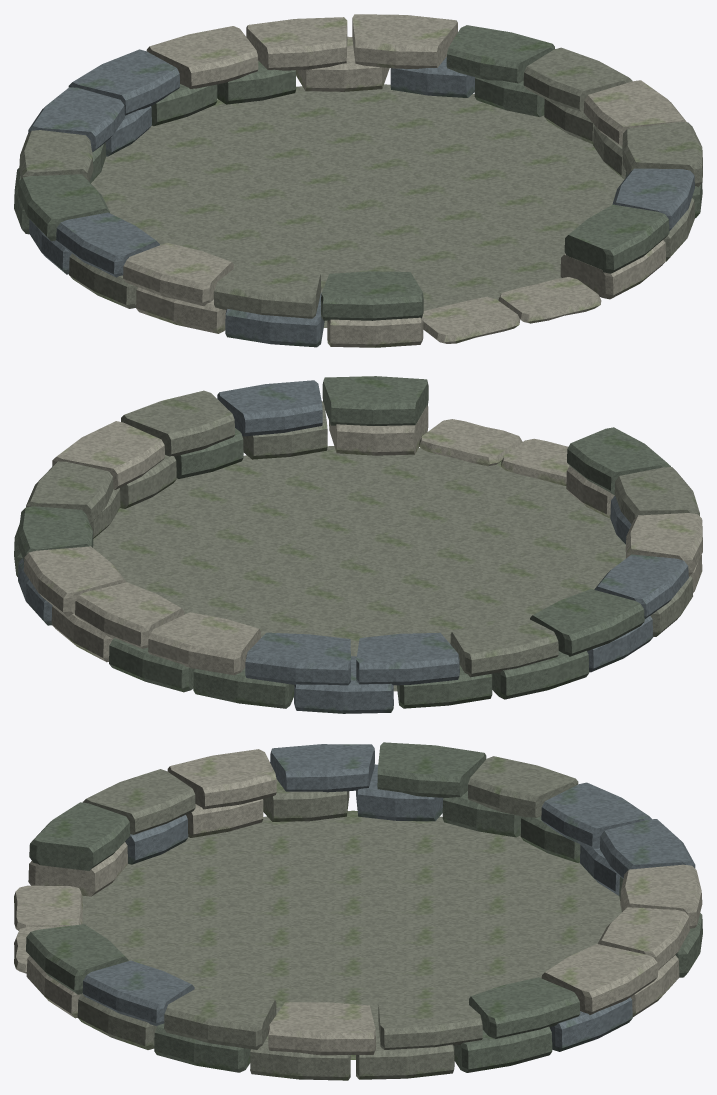
Rendered from onsen-pool.glb.
3 views of the same model, one above another, from view 1: azimuth 30°, elevation 25°; view 2: azimuth 150°, elevation 25°; view 3: azimuth 270°, elevation 25° (orthographic).
Visible parts, largest first — view 1: Hewn granite coping, bonded outer rim and paved basin; view 2: Hewn granite coping, bonded outer rim and paved basin; view 3: Hewn granite coping, bonded outer rim and paved basin.
Part boxes in pixels (bbox=[...]): Hewn granite coping, bonded outer rim and paved basin: bbox=[14, 14, 702, 347]; Hewn granite coping, bonded outer rim and paved basin: bbox=[14, 376, 702, 713]; Hewn granite coping, bonded outer rim and paved basin: bbox=[14, 742, 702, 1080].
Size of the model in its own units: 5.37 by 0.426 by 5.3.
1 material, 1 textured.
